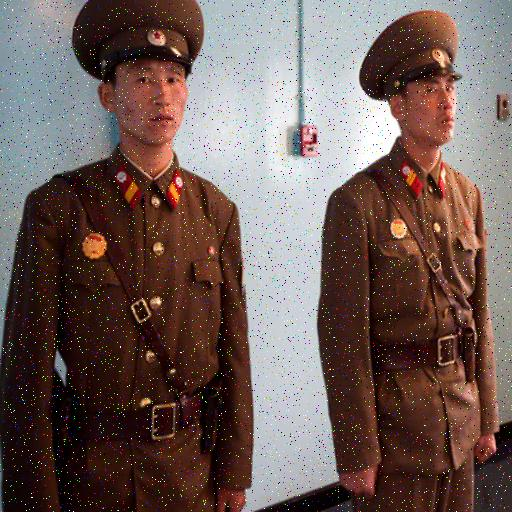north army: (5, 2, 281, 512), (285, 6, 512, 512)
